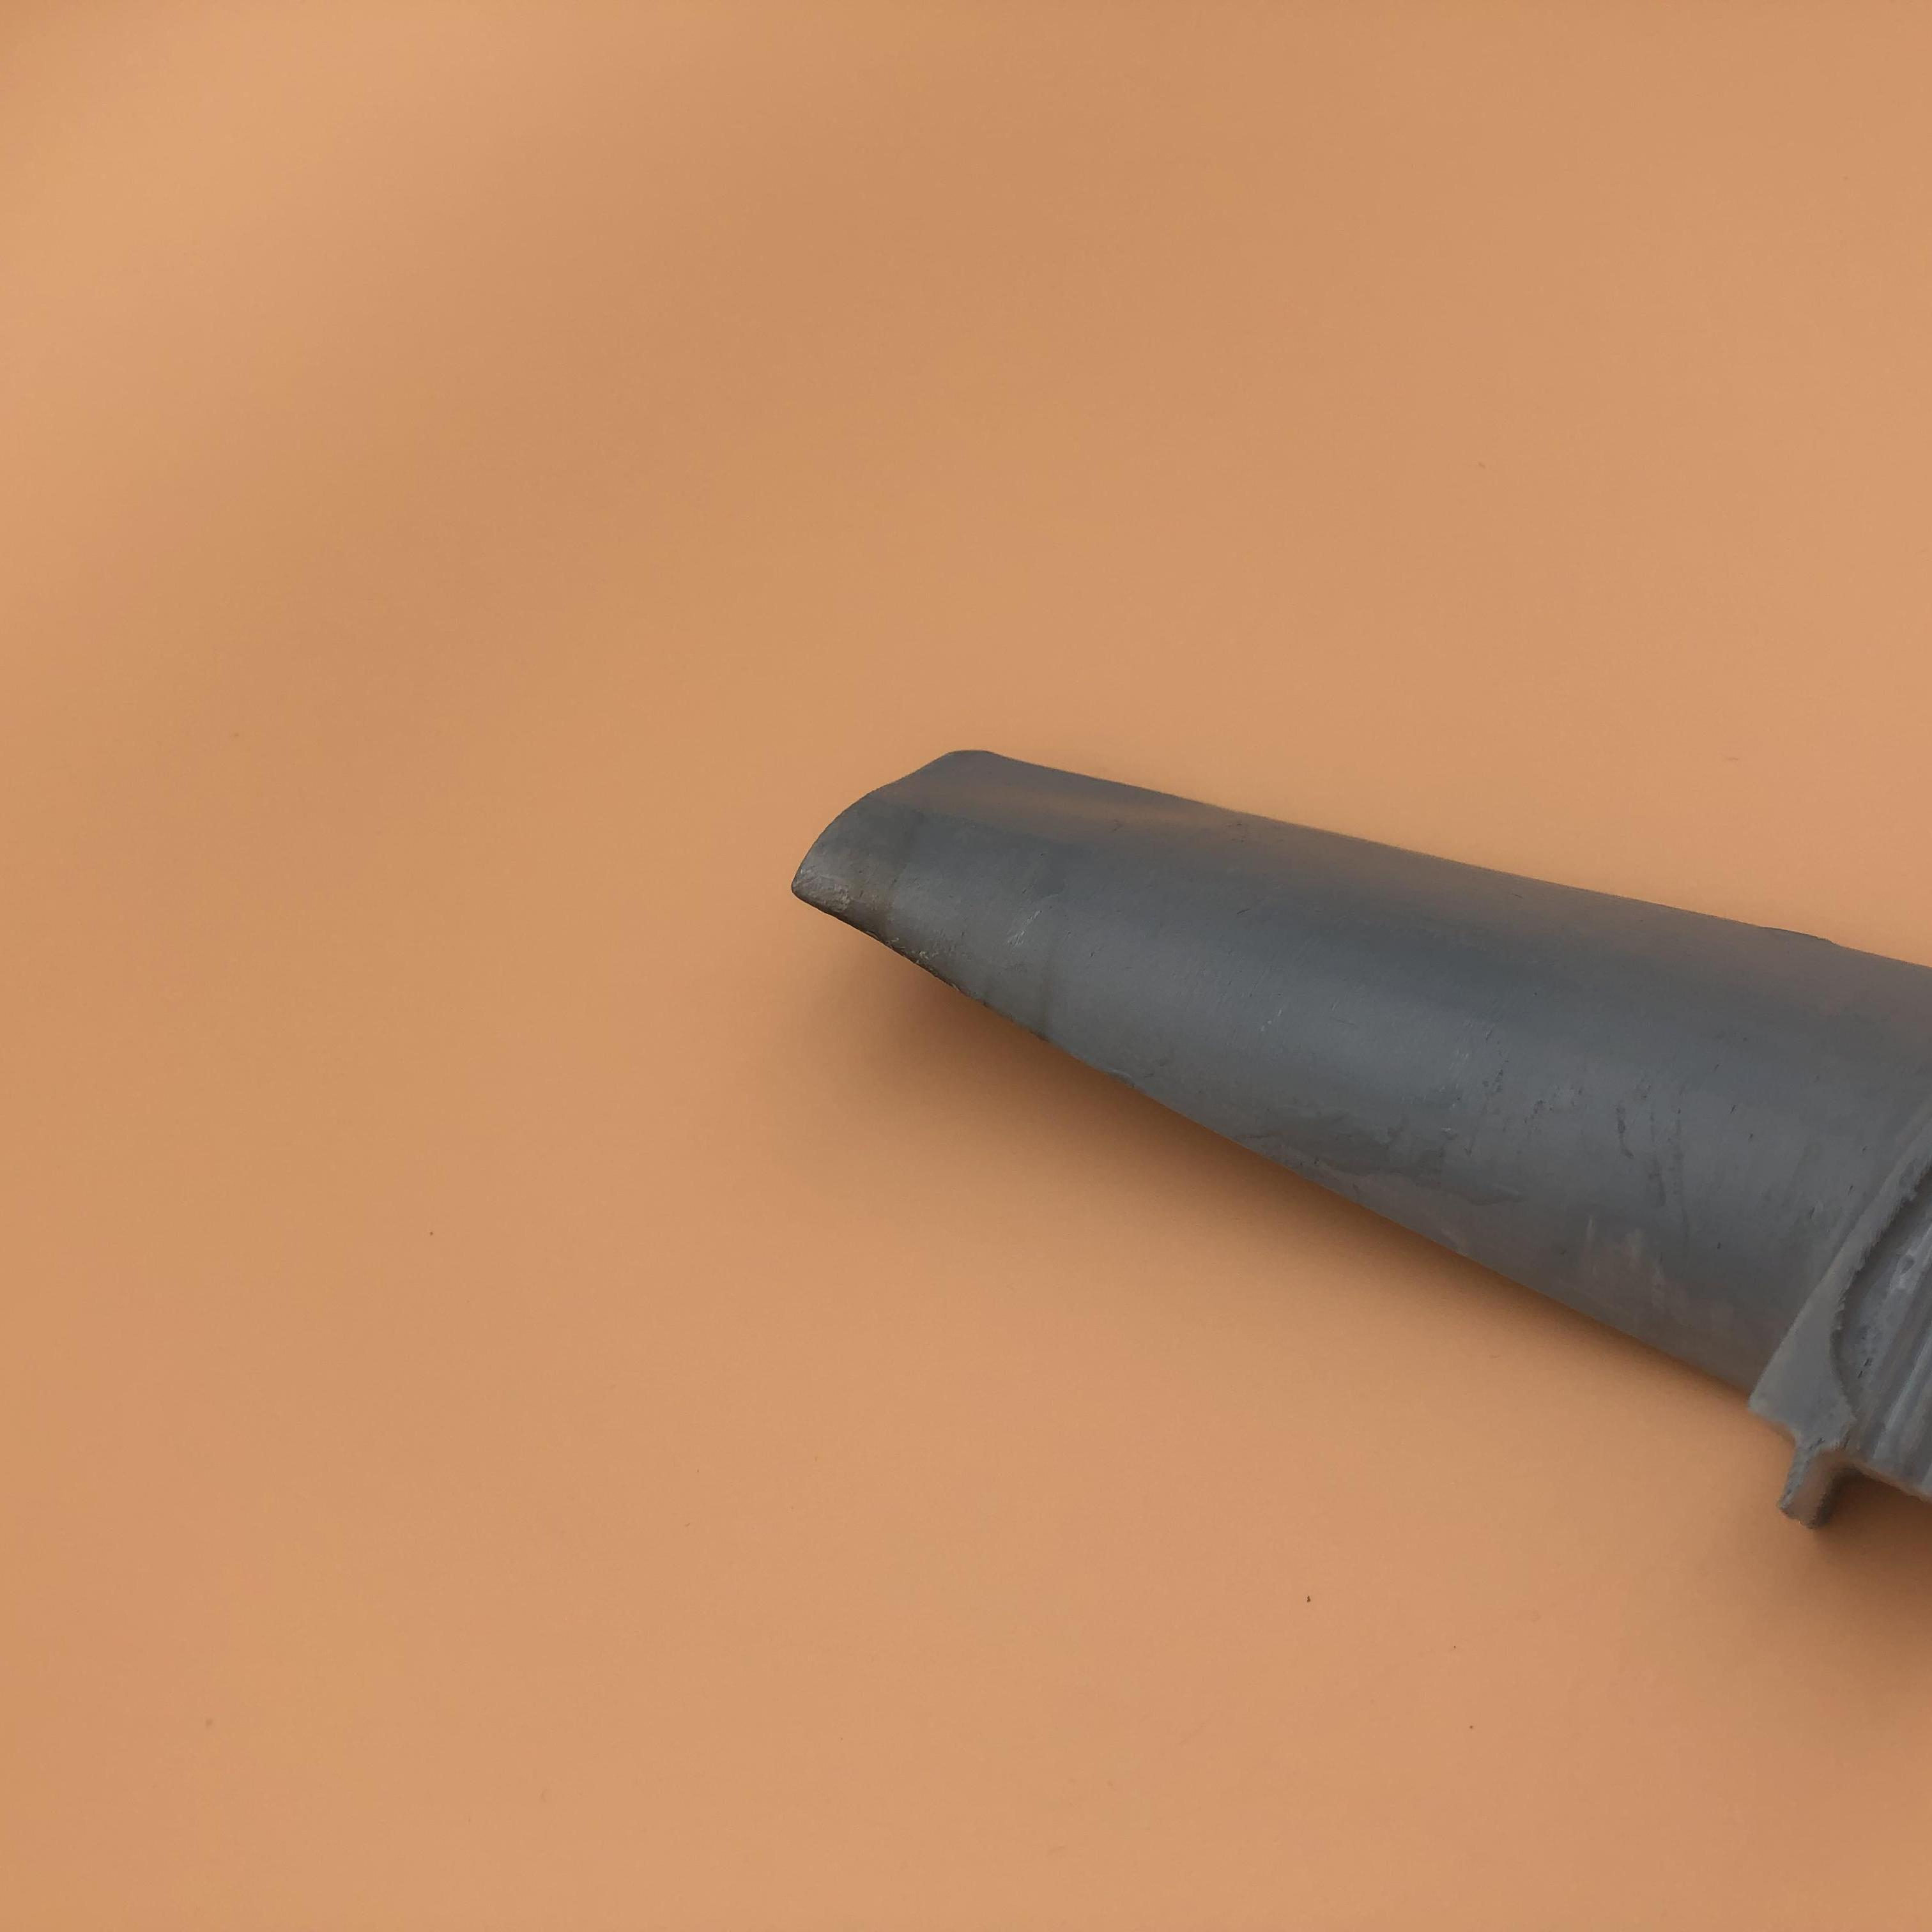ablation: (798, 812, 1056, 1005)
